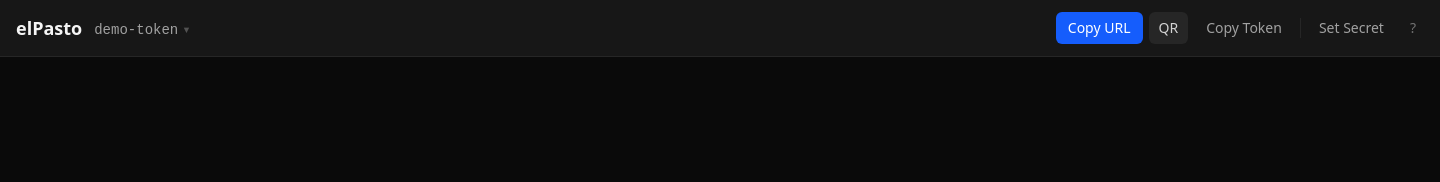
Test: SessionHeader › alive/unavailable state renders after probes resolve
Click the button with aria-label "Session menu": [142, 30] box [94,20,191,40]
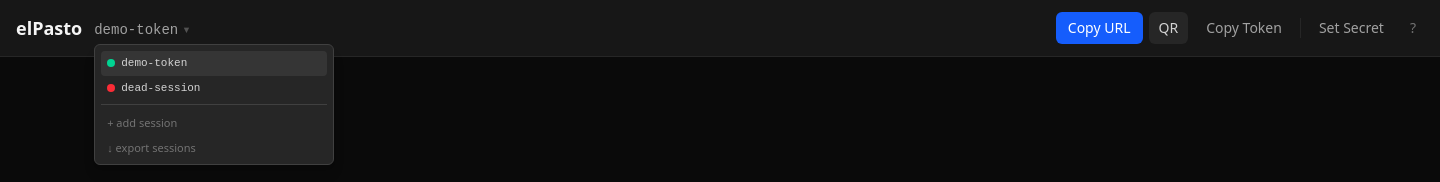
Check: the element named "unreachable" is shown, box [107,84,115,92]
